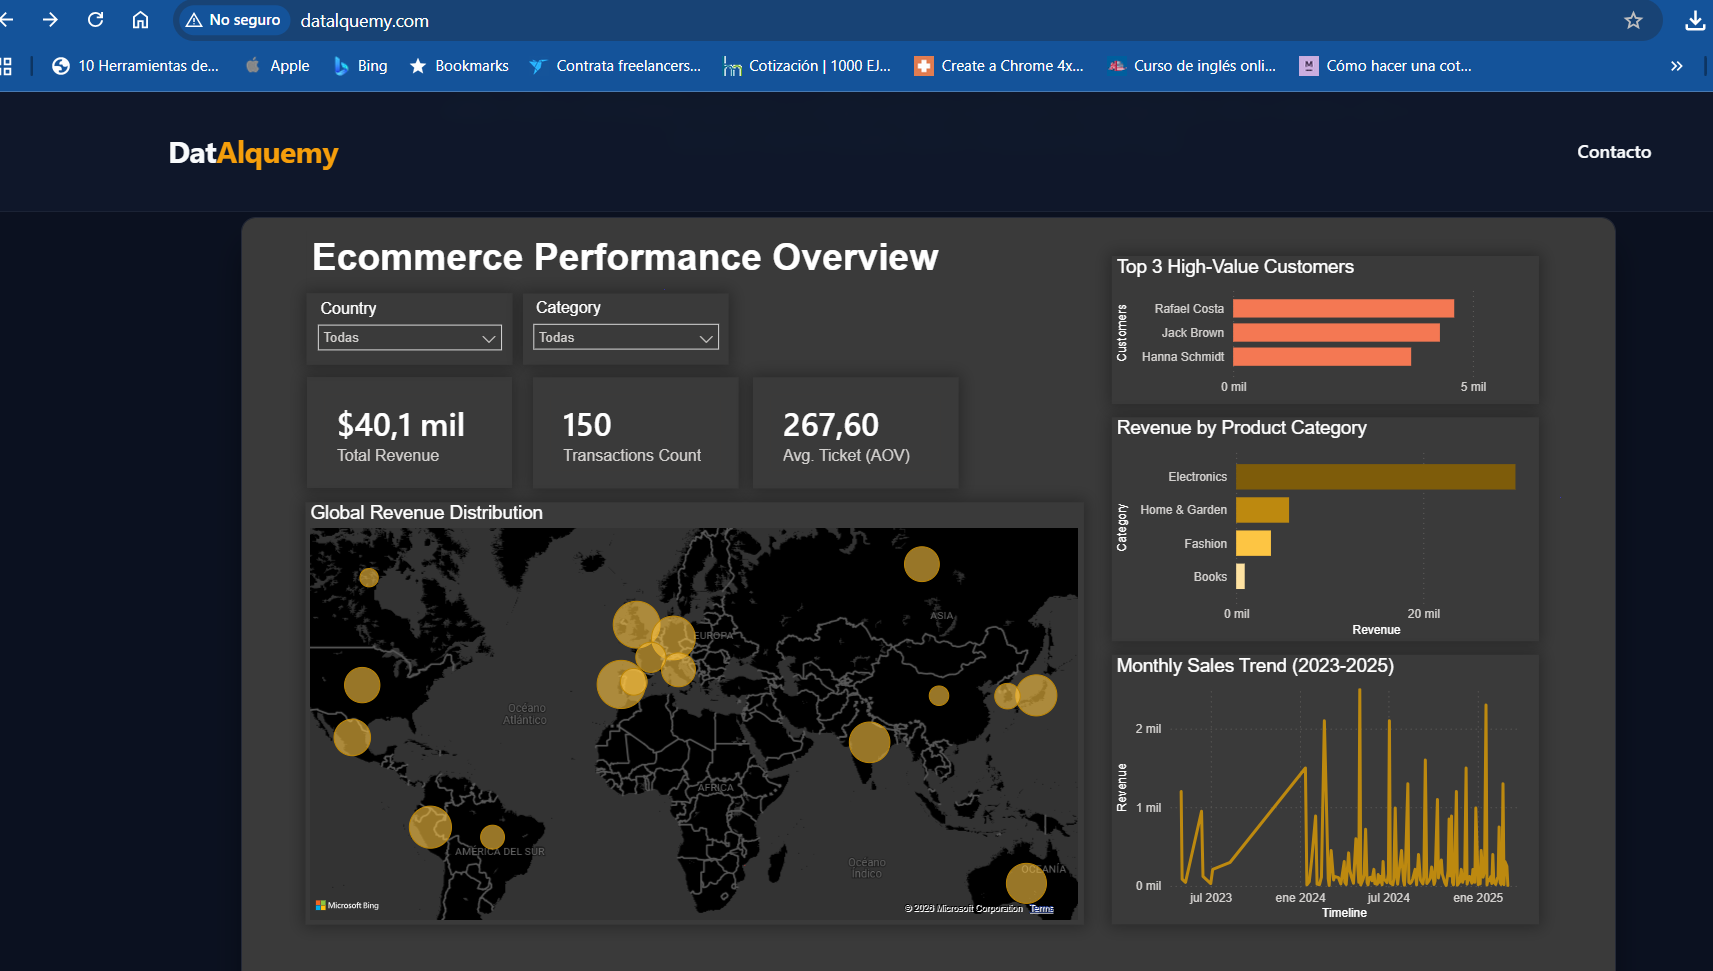

This screenshot's page, from the dashboard's own definition file:
{"tool":"powerbi","page":{"name":"Página 1","canvas":[1280,720],"ordinal":0},"visuals":[{"type":"textbox","box":[18.2,0,692.4,62.9],"z":0},{"type":"slicer","fields":{"Values":["dim_users.country"]},"box":[18.2,62.9,205.8,71.4],"z":1000},{"type":"slicer","fields":{"Values":["fact_transactions.product_category"]},"box":[234.8,62.9,205.8,71.4],"z":2000},{"type":"cardVisual","fields":{"Data":["fact_transactions.TotalRevenue"]},"box":[18.2,146.5,205.8,111.4],"z":3000},{"type":"cardVisual","fields":{"Data":["fact_transactions.TotalTransactions"]},"box":[244.5,146.5,205.8,111.4],"z":4000},{"type":"cardVisual","fields":{"Data":["fact_transactions.AoV"]},"box":[464.8,146.5,205.8,111.4],"z":5000},{"type":"clusteredBarChart","title":"Top 3 High-Value Customers","fields":{"Category":["dim_users.user_name"],"Y":["Sum(fact_transactions.amount)"]},"box":[823.1,25.4,427.3,147.7],"z":6000},{"type":"clusteredBarChart","title":"Revenue by Product Category","fields":{"Category":["fact_transactions.product_category"],"Y":["Sum(fact_transactions.amount)"]},"box":[823.1,186.4,427.3,223.9],"z":7000},{"type":"lineChart","title":"Monthly Sales Trend (2023-2025)","fields":{"Category":["fact_transactions.transaction_date.Variación.Jerarquía de fechas.Año"],"Y":["Sum(fact_transactions.amount)"]},"box":[823.1,423.7,427.3,269.9],"z":8000},{"type":"map","title":"Global Revenue Distribution","fields":{"Category":["dim_users.country"],"Size":["Sum(fact_transactions.amount)"]},"box":[17.8,271.7,778,422.6],"z":9000}]}

Visuals, with their boxes on the page's 1280x720 design canvas (x1, y1, x2, y2). These are canvas units, not pixel positions in the 1713x971 screenshot, which may show the page scaled, cropped or inside an application window:
textbox: <bbox>18, 0, 711, 63</bbox>
slicer - dim_users.country: <bbox>18, 63, 224, 134</bbox>
slicer - fact_transactions.product_category: <bbox>235, 63, 441, 134</bbox>
cardVisual - fact_transactions.TotalRevenue: <bbox>18, 146, 224, 258</bbox>
cardVisual - fact_transactions.TotalTransactions: <bbox>244, 146, 450, 258</bbox>
cardVisual - fact_transactions.AoV: <bbox>465, 146, 671, 258</bbox>
"Top 3 High-Value Customers" clusteredBarChart: <bbox>823, 25, 1250, 173</bbox>
"Revenue by Product Category" clusteredBarChart: <bbox>823, 186, 1250, 410</bbox>
"Monthly Sales Trend (2023-2025)" lineChart: <bbox>823, 424, 1250, 694</bbox>
"Global Revenue Distribution" map: <bbox>18, 272, 796, 694</bbox>
